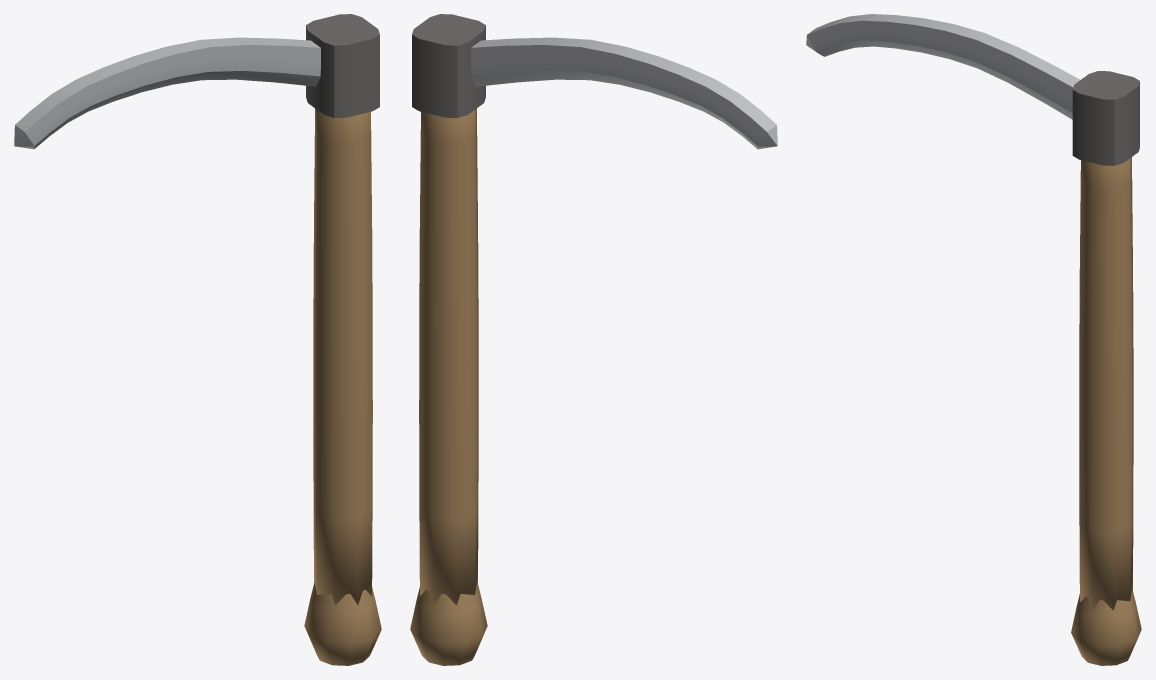
File: kama.glb
3 renders of one model, left to right at view 1: azimuth 30°, elevation 25°; view 2: azimuth 150°, elevation 25°; view 3: azimuth 330°, elevation 25°, orthographic. The views are drawn at different scales.
Parts seen in each view (by area): view 1: kama; view 2: kama; view 3: kama.
Part boxes in pixels (<box>): kama: <box>14,14,381,665</box>; kama: <box>410,14,777,665</box>; kama: <box>806,14,1141,665</box>.
Bounding box in the file's own units: 0.419 × 0.7237 × 0.0742.
